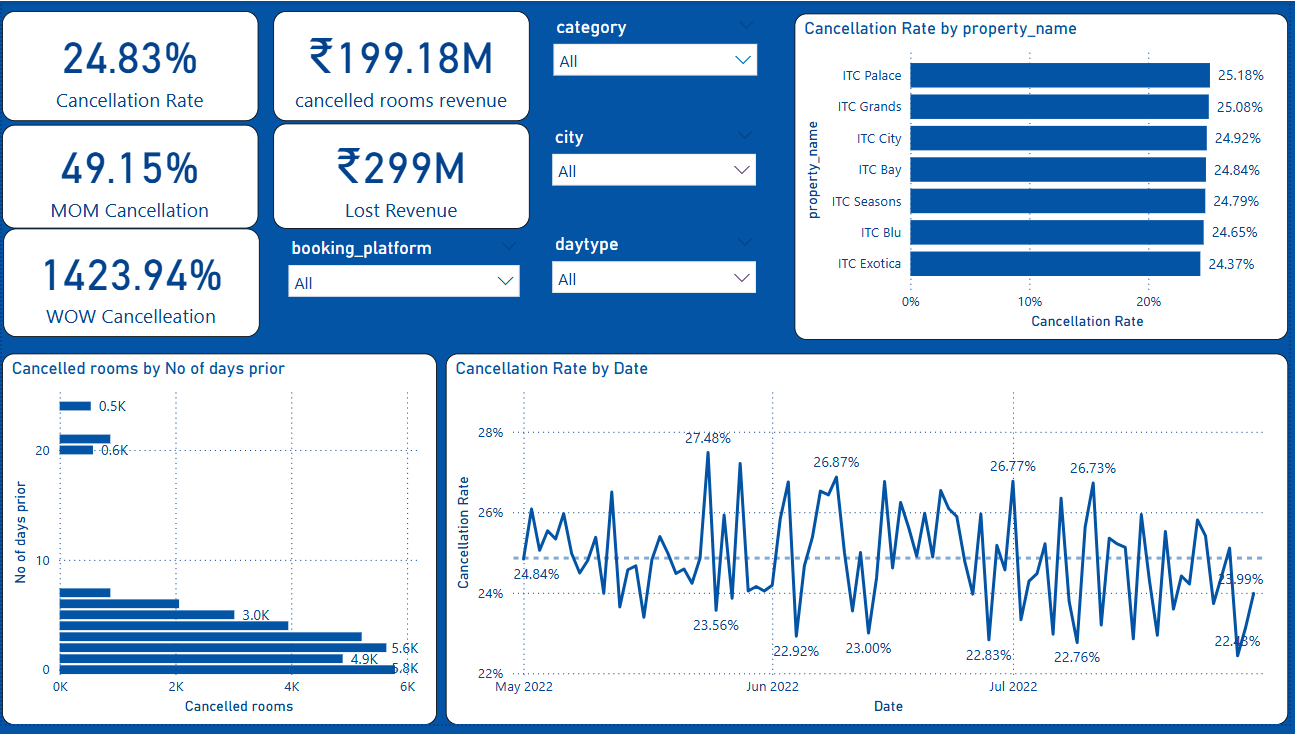

The page's visual inventory and layout, read from the dashboard file:
{"tool":"powerbi","page":{"name":"Cancellation","canvas":[1280,720],"ordinal":4},"visuals":[{"type":"card","fields":{"Values":["Table.Cancellation Rate"]},"box":[0,10,255,109.5],"z":0},{"type":"card","fields":{"Values":["Table.cancelled revenue"]},"box":[269.9,10,255,109.5],"z":1000},{"type":"barChart","fields":{"Category":["bookings.No of days prior"],"Y":["Table.Cancelled rooms"]},"box":[0,350.8,432.9,369.5],"z":2000},{"type":"card","fields":{"Values":["Table.Lost revenue"]},"box":[269.9,121.9,255,104.5],"z":3000},{"type":"card","fields":{"Values":["Table.MOM Cancellation"]},"box":[0,123.2,255,103.2],"z":4000},{"type":"card","fields":{"Values":["Table.WOW Cancelleation"]},"box":[1.2,226.4,255,108.2],"z":5000},{"type":"lineChart","fields":{"Category":["calender.Date"],"Y":["Table.Cancellation Rate"]},"box":[441.6,350.8,838.4,369.5],"z":6000},{"type":"slicer","fields":{"Values":["calender.daytype"]},"box":[537.4,226.4,222.7,105.7],"z":7000},{"type":"slicer","fields":{"Values":["hotels.city"]},"box":[537.4,119.4,222.7,103.2],"z":8000},{"type":"slicer","fields":{"Values":["hotels.category"]},"box":[538.6,10,222.7,107],"z":9000},{"type":"slicer","fields":{"Values":["bookings.booking_platform"]},"box":[274.9,230.1,250,102],"z":10000},{"type":"barChart","fields":{"Y":["Table.Cancellation Rate"],"Category":["hotels.property_name"]},"box":[788.7,12.4,491.4,324.7],"z":11000}]}

Visuals, with their boxes in screenshot pixels (x1, y1, x2, y2), scaled from the page's 1280x720 canvas onto the 1295x734 screenshot:
card - Table.Cancellation Rate: bbox=(0, 10, 258, 122)
card - Table.cancelled revenue: bbox=(273, 10, 531, 122)
barChart - bookings.No of days prior x Table.Cancelled rooms: bbox=(0, 358, 438, 733)
card - Table.Lost revenue: bbox=(273, 124, 531, 231)
card - Table.MOM Cancellation: bbox=(0, 126, 258, 231)
card - Table.WOW Cancelleation: bbox=(1, 231, 259, 341)
lineChart - calender.Date x Table.Cancellation Rate: bbox=(447, 358, 1294, 733)
slicer - calender.daytype: bbox=(544, 231, 769, 339)
slicer - hotels.city: bbox=(544, 122, 769, 227)
slicer - hotels.category: bbox=(545, 10, 770, 119)
slicer - bookings.booking_platform: bbox=(278, 235, 531, 339)
barChart - Table.Cancellation Rate x hotels.property_name: bbox=(798, 13, 1294, 344)
